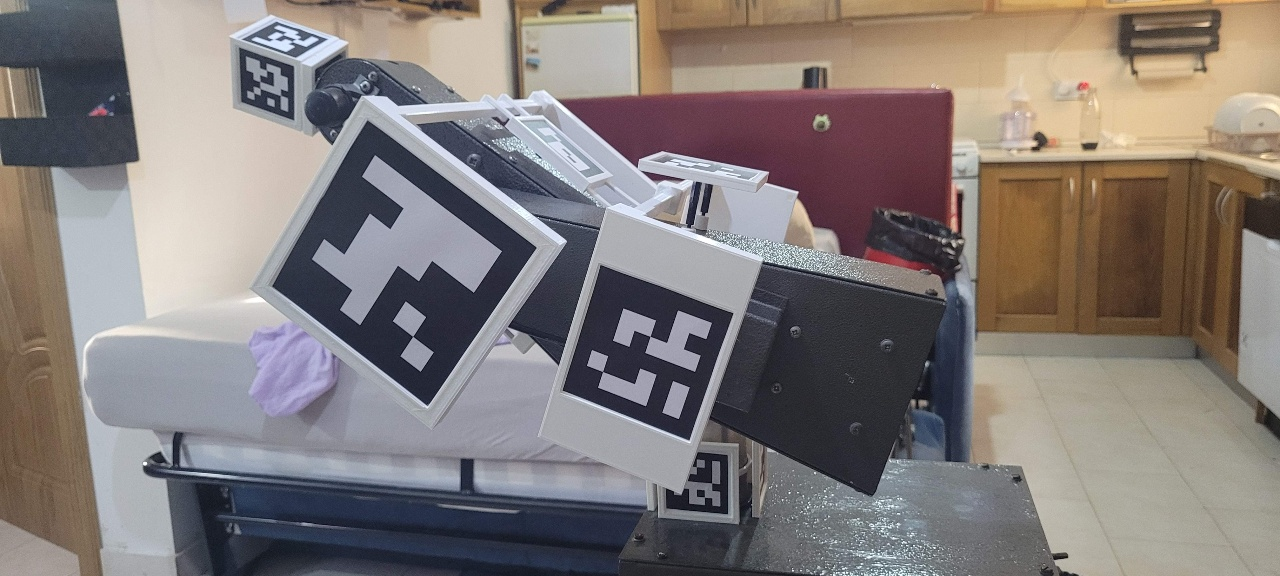Robot: (225, 11, 949, 531)
